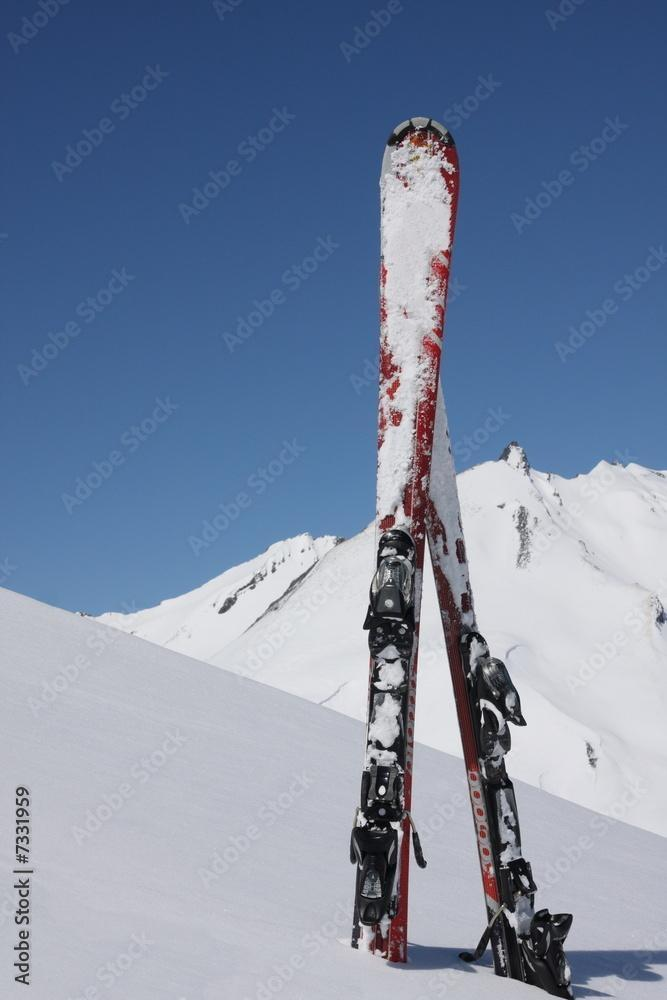Skis: (318, 74, 582, 1000)
